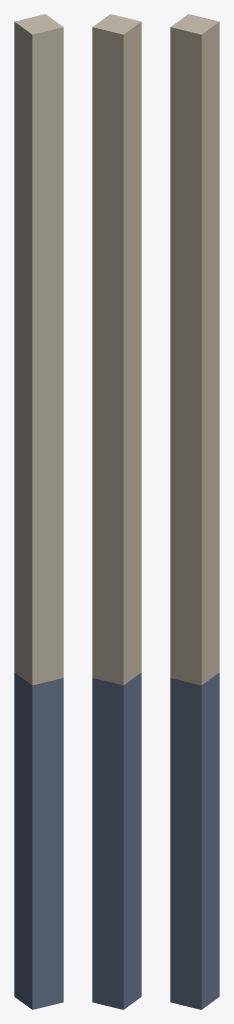
The model's file is Mesh_Wall2Colors_F5.fbx.
3 views of the same model, side by side, from view 1: azimuth 30°, elevation 25°; view 2: azimuth 150°, elevation 25°; view 3: azimuth 330°, elevation 25° (orthographic).
Parts seen in each view (by area): view 1: Mesh_Wall2Colors_F5; view 2: Mesh_Wall2Colors_F5; view 3: Mesh_Wall2Colors_F5.
Part boxes in pixels (bbox=[...]): Mesh_Wall2Colors_F5: bbox=[14, 14, 63, 1009]; Mesh_Wall2Colors_F5: bbox=[92, 14, 141, 1009]; Mesh_Wall2Colors_F5: bbox=[170, 14, 219, 1009].
Bounding box in the file's own units: 0.1 × 3 × 0.1.
